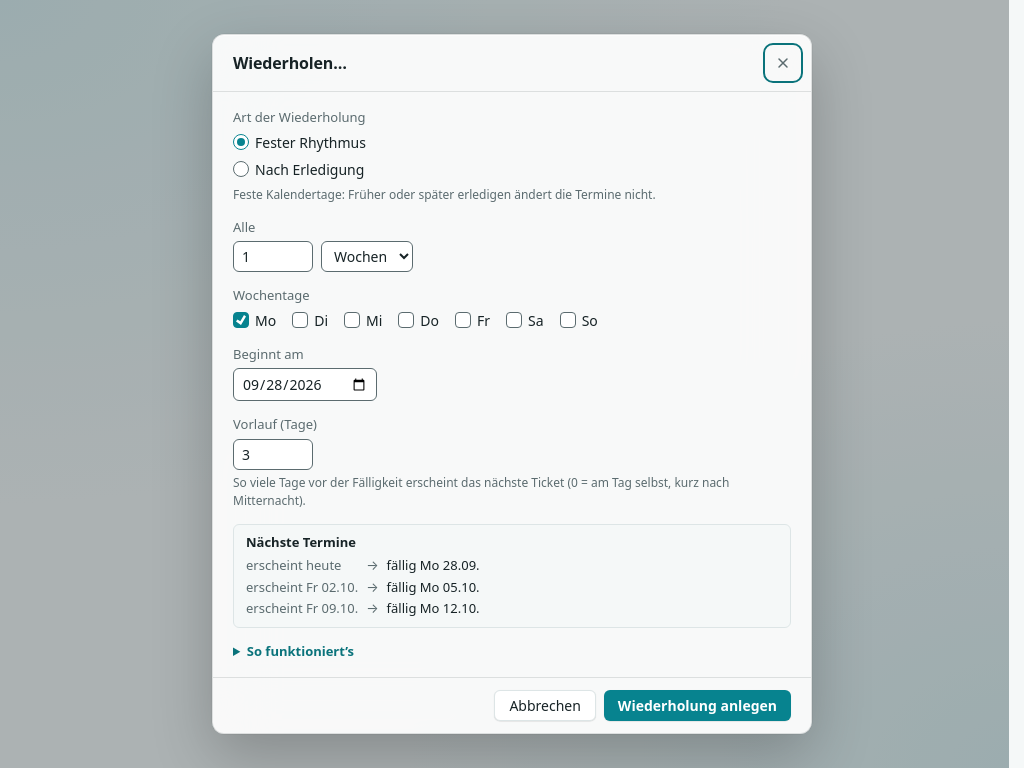
RecurrenceDialog › shows field errors of the server at their field and other refusals as a message
Click the button "Wiederholung anlegen". click: {"x": 697, "y": 706}
box: [604,690,791,721]
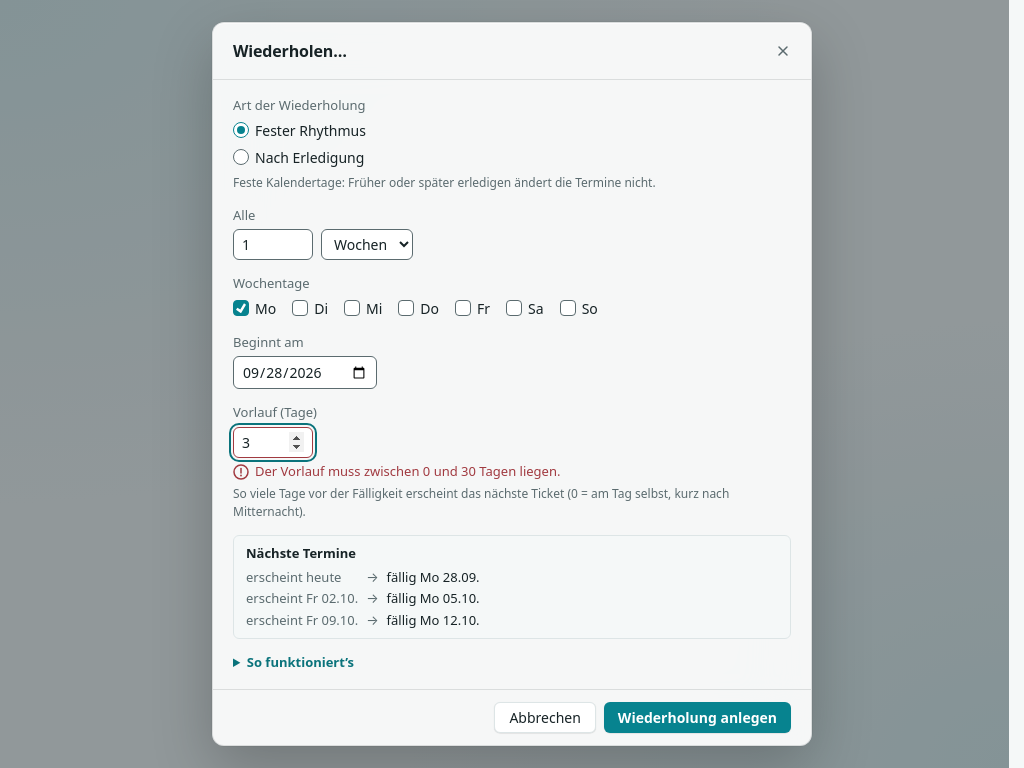
Expected: the text "Der Vorlauf muss zwischen 0 und 30 Tagen liegen." is shown, [255,462,560,481]
Click the button "Wiederholung anlegen". click: {"x": 697, "y": 717}
box: [604,702,791,733]
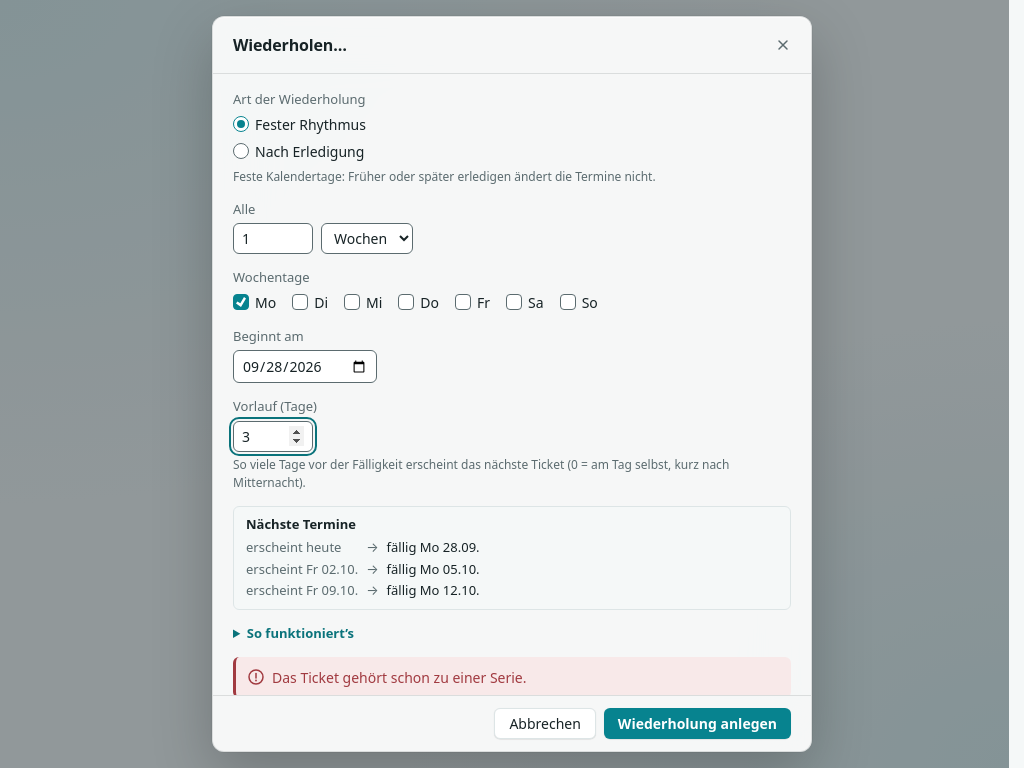
Expected: the message reads "Das Ticket gehört schon zu einer Serie.", [272,668,526,687]
